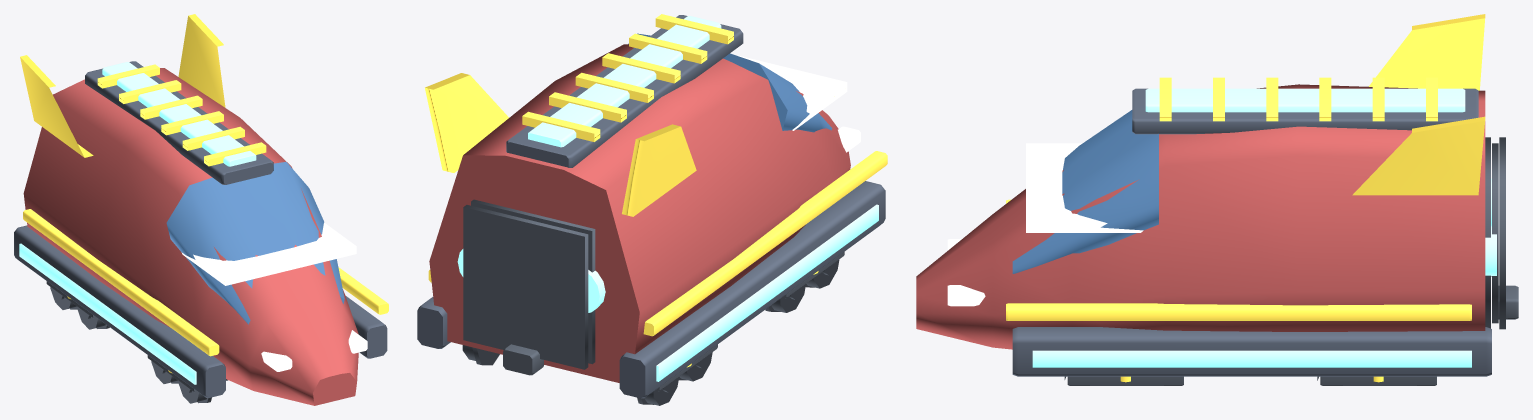
The model's file is loco_maglev.glb.
3 views of the same model, side by side, from view 1: azimuth 30°, elevation 25°; view 2: azimuth 150°, elevation 25°; view 3: azimuth 270°, elevation 25° (orthographic). The views are drawn at different scales.
Parts seen in each view (by area): view 1: LocoMaglevPlasma; view 2: LocoMaglevPlasma; view 3: LocoMaglevPlasma.
Boxes of the visible parts, bbox=[...] form: LocoMaglevPlasma: bbox=[14, 14, 388, 405]; LocoMaglevPlasma: bbox=[417, 14, 887, 405]; LocoMaglevPlasma: bbox=[916, 14, 1518, 385].
Size of the model in its own units: 0.406 by 0.4909 by 0.9055.
